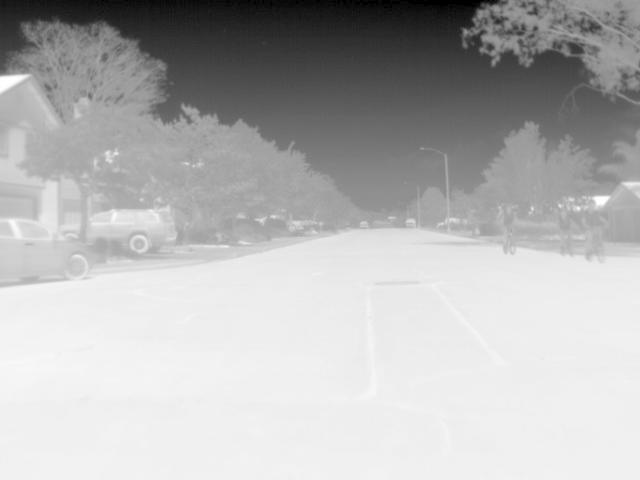car: (1, 216, 99, 282), (91, 207, 179, 258), (59, 220, 83, 240), (404, 216, 418, 228), (357, 218, 371, 230)
person: (586, 197, 607, 254), (496, 204, 520, 237), (557, 200, 579, 234)
